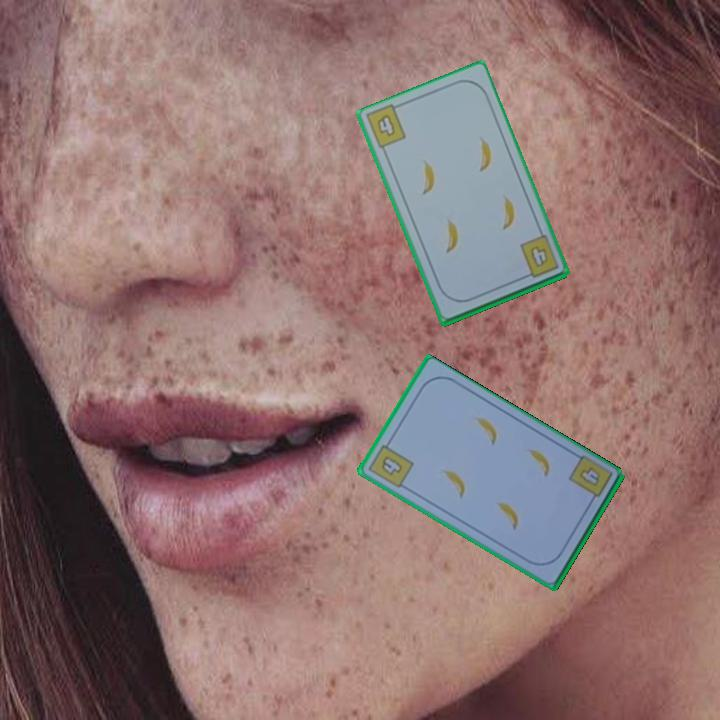4b: (365, 436, 416, 491), (516, 233, 561, 282), (575, 463, 603, 489), (373, 111, 398, 139)
